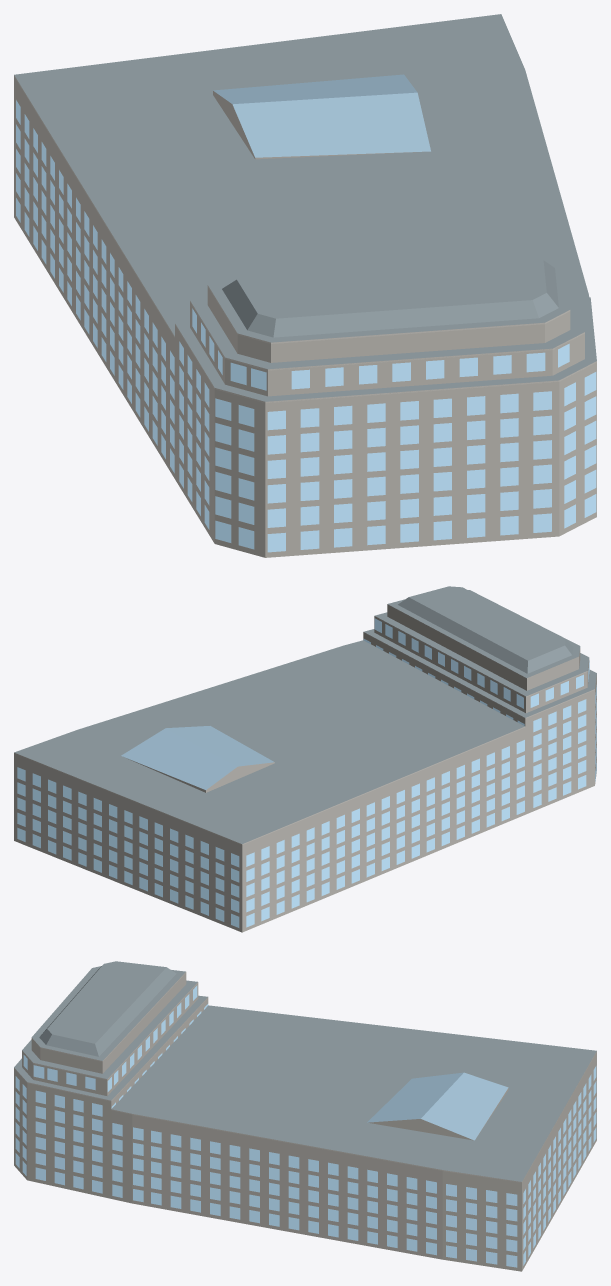
The model's file is detail.glb.
3 renders of one model, top to bottom at view 1: azimuth 30°, elevation 25°; view 2: azimuth 150°, elevation 25°; view 3: azimuth 270°, elevation 25°, orthographic. The views are drawn at different scales.
Parts seen in each view (by area): view 1: roof, stone, window, metal, trim; view 2: roof, stone, window, metal, trim; view 3: roof, stone, window, metal, trim.
Part boxes in pixels (box(x1,y1,x2,y2)): roof: box(14, 14, 596, 401); stone: box(14, 75, 596, 557); window: box(16, 100, 596, 552); metal: box(213, 74, 430, 157); trim: box(14, 75, 596, 402); roof: box(14, 586, 596, 843); stone: box(14, 604, 596, 932); window: box(17, 618, 596, 927); metal: box(121, 726, 274, 789); trim: box(14, 605, 596, 844); roof: box(14, 961, 596, 1181); stone: box(14, 973, 596, 1271); window: box(15, 985, 596, 1267); metal: box(367, 1072, 508, 1140); trim: box(14, 972, 596, 1182).
Size of the model in its own units: 94.32 by 32 by 124.
